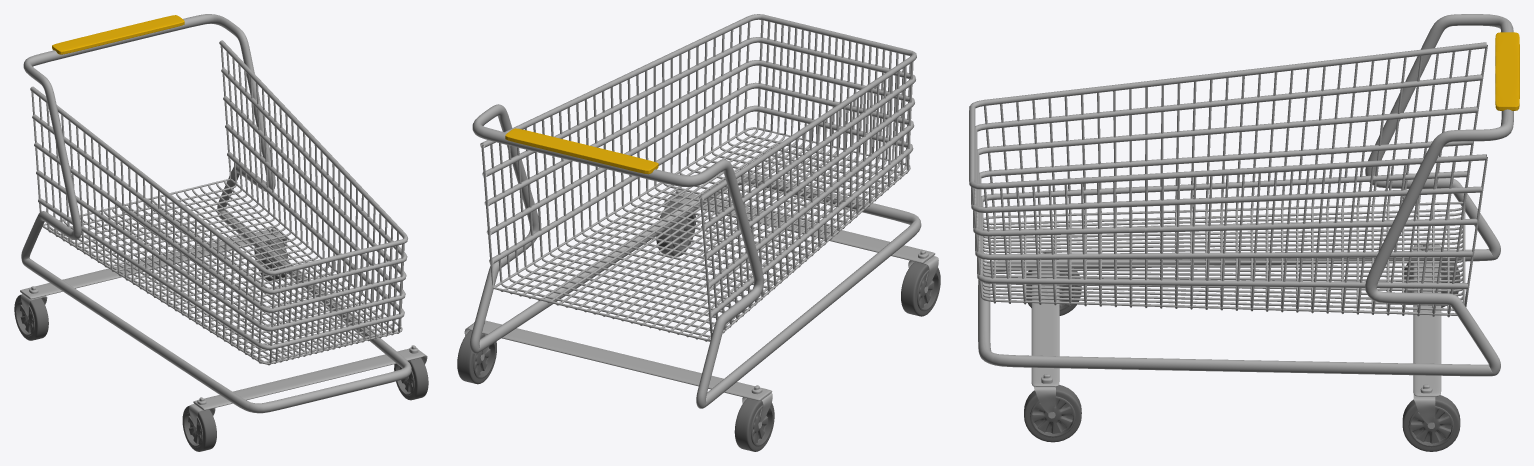
File: cart2.fbx
The picture shows the model from 3 angles, left to right: view 1: azimuth 30°, elevation 25°; view 2: azimuth 150°, elevation 25°; view 3: azimuth 270°, elevation 25°; orthographic projection. The views are drawn at different scales.
Parts seen in each view (by area): view 1: pizom, poprzeczne, pion, Cube, Cube.002, Cube.006, Cube.003, Cylinder.001, Cylinder, Cylinder.005; view 2: pizom, poprzeczne, pion, Cube, Cube.003, Cube.006, Cube.002, Cylinder, Cylinder.001, Cylinder.006, Cylinder.005; view 3: poprzeczne, pizom, pion, Cube, Cube.003, Cube.002, Cylinder.005, Cylinder.006, Cube.006, Cylinder.007, Cylinder.002.
Part boxes in pixels (box(x1,y1,x2,y2)): pizom: box(31, 45, 404, 363); poprzeczne: box(30, 40, 407, 349); pion: box(42, 179, 403, 365); Cube: box(21, 14, 411, 413); Cube.002: box(193, 348, 424, 410); Cube.006: box(52, 15, 184, 54); Cube.003: box(20, 229, 282, 299); Cylinder.001: box(14, 294, 48, 340); Cylinder: box(182, 405, 216, 451); Cylinder.005: box(394, 357, 428, 400); pizom: box(481, 22, 913, 341); poprzeczne: box(480, 14, 916, 317); pion: box(494, 20, 910, 341); Cube: box(470, 104, 921, 408); Cube.003: box(468, 320, 772, 400); Cube.006: box(505, 128, 658, 174); Cube.002: box(669, 192, 935, 263); Cylinder: box(901, 262, 940, 316); Cylinder.001: box(734, 398, 774, 451); Cylinder.006: box(457, 330, 496, 384); Cylinder.005: box(656, 202, 695, 256); poprzeczne: box(969, 42, 1486, 289); pizom: box(984, 45, 1487, 317); pion: box(971, 187, 1463, 315); Cube: box(978, 14, 1513, 376); Cube.003: box(1413, 244, 1441, 396); Cube.002: box(1031, 270, 1059, 386); Cylinder.005: box(1024, 385, 1081, 442); Cylinder.006: box(1402, 395, 1460, 451); Cube.006: box(1495, 32, 1519, 110); Cylinder.007: box(1413, 384, 1435, 428); Cylinder.002: box(1034, 374, 1055, 418).
Bounding box in the file's own units: 171 × 160 × 260.
